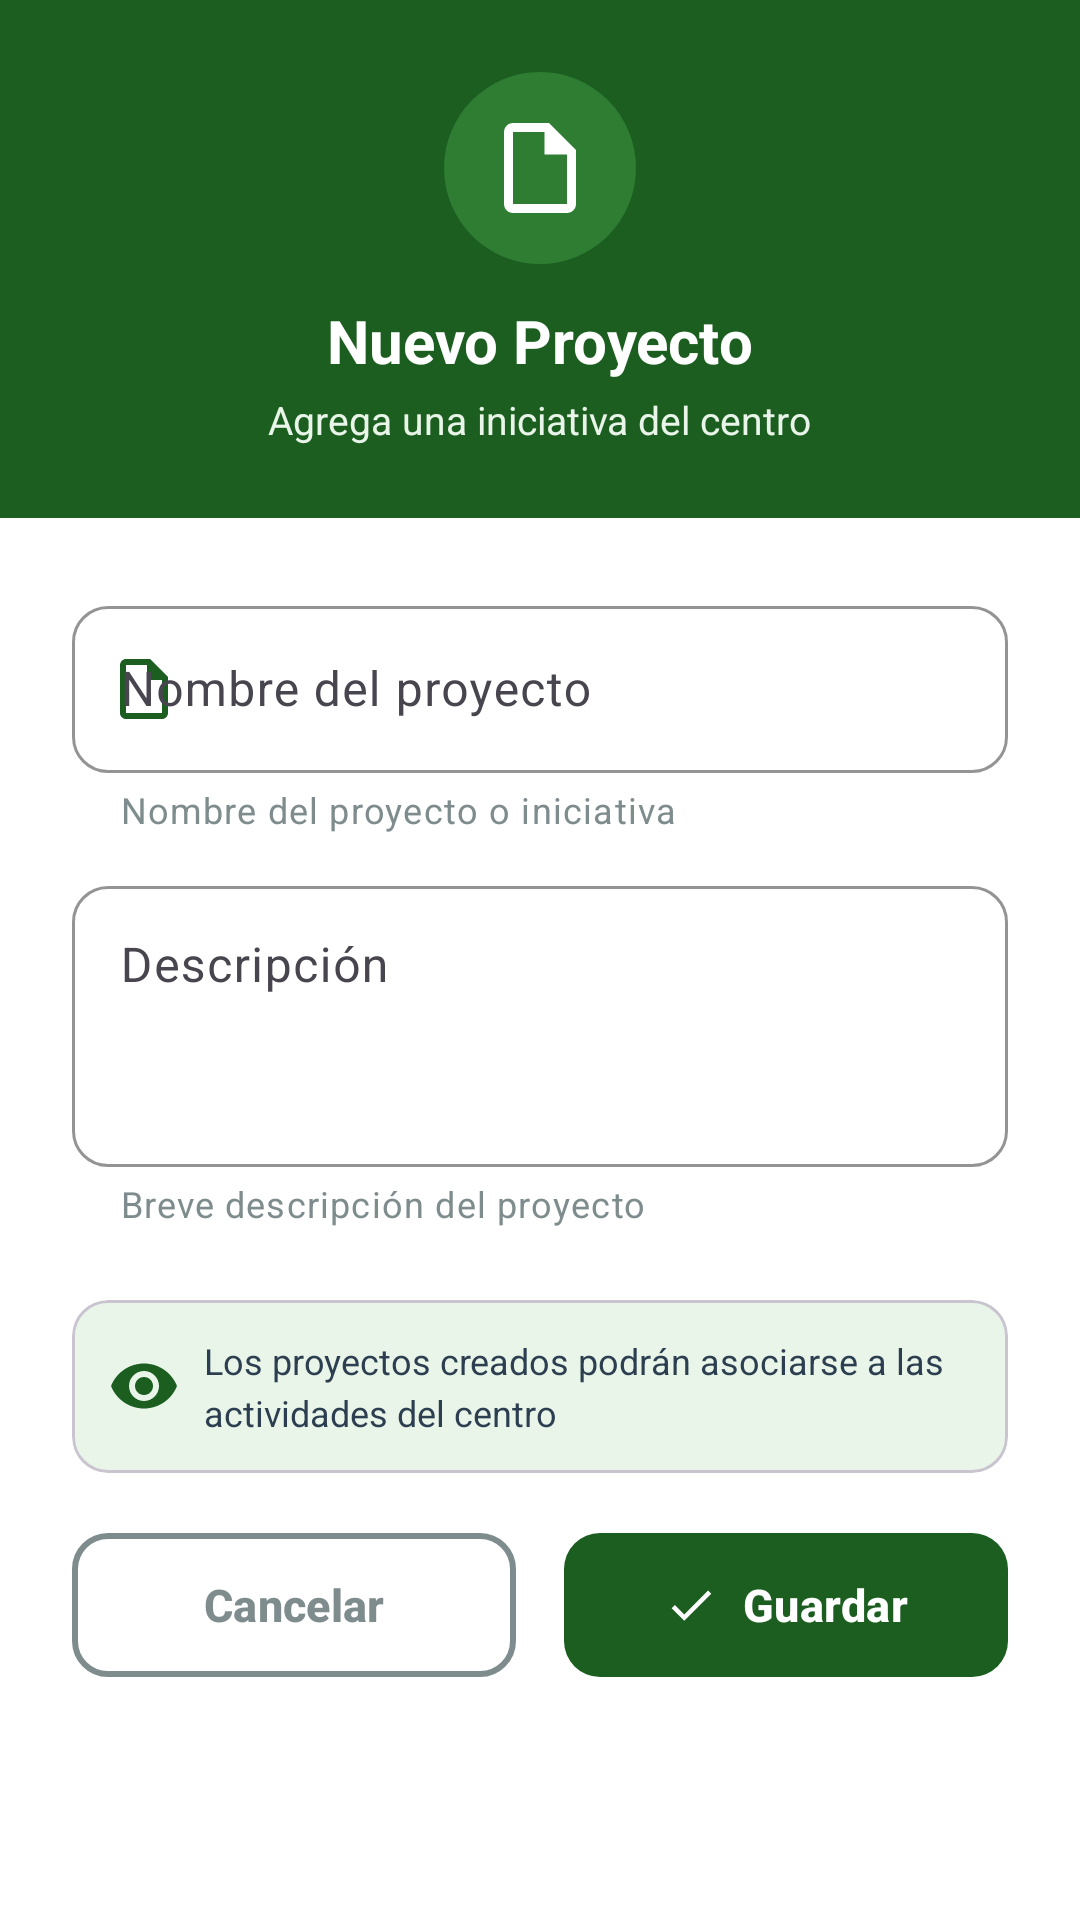

Screen size 1080px x 1920px. Icon name, then its box in pixels as {"x1": x1, "y1": y1, "x2": x2, "y2": y2}:
file: {"x1": 504, "y1": 123, "x2": 576, "y2": 213}
view: {"x1": 111, "y1": 1363, "x2": 177, "y2": 1409}
